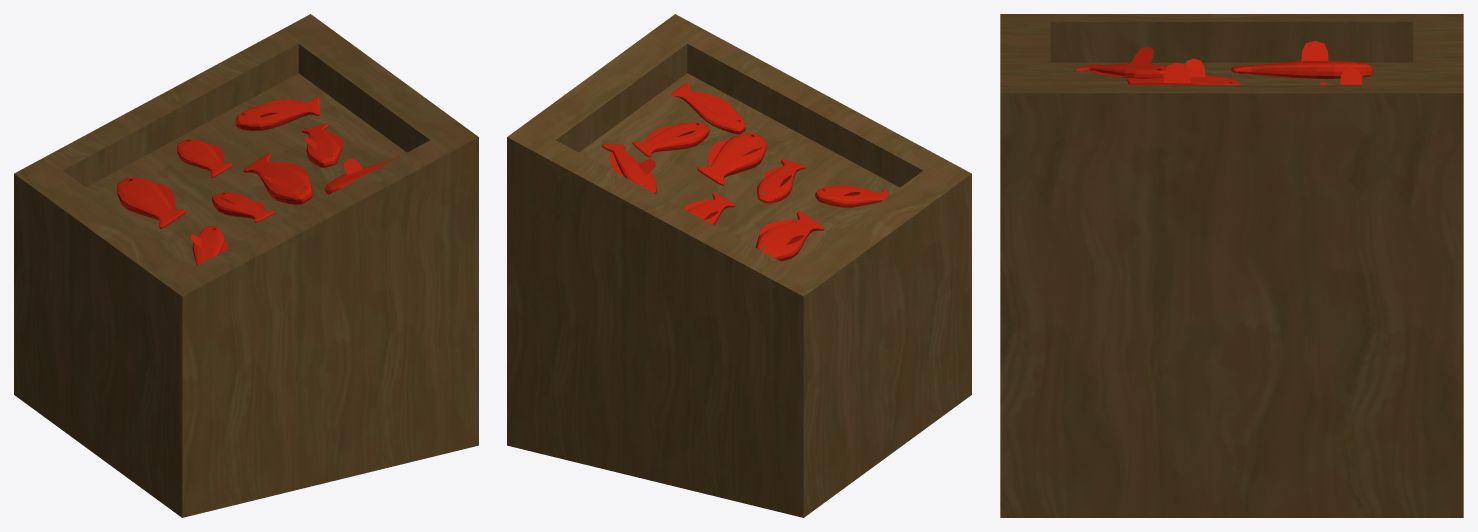
The model's file is PESCADO_SPAWNER_PRP.fbx.
3 views of the same model, side by side, from view 1: azimuth 30°, elevation 25°; view 2: azimuth 150°, elevation 25°; view 3: azimuth 270°, elevation 25° (orthographic). The views are drawn at different scales.
Visible parts, largest first — view 1: PESCADO_SPAWNER_PRP; view 2: PESCADO_SPAWNER_PRP; view 3: PESCADO_SPAWNER_PRP.
Part boxes in pixels (box(x1,y1,x2,y2)): PESCADO_SPAWNER_PRP: box(14, 14, 478, 517); PESCADO_SPAWNER_PRP: box(507, 14, 971, 517); PESCADO_SPAWNER_PRP: box(1000, 14, 1463, 517).
Bounding box in the file's own units: 47.33 × 47.02 × 46.47.
2 materials, 1 textured.
